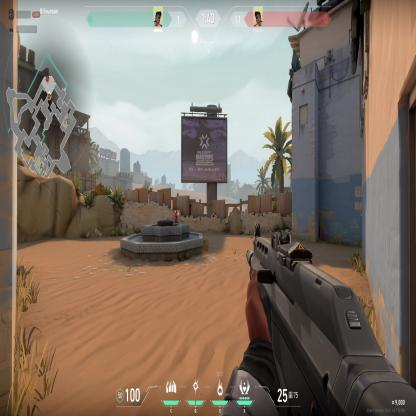enemy: (172, 206, 180, 224)
